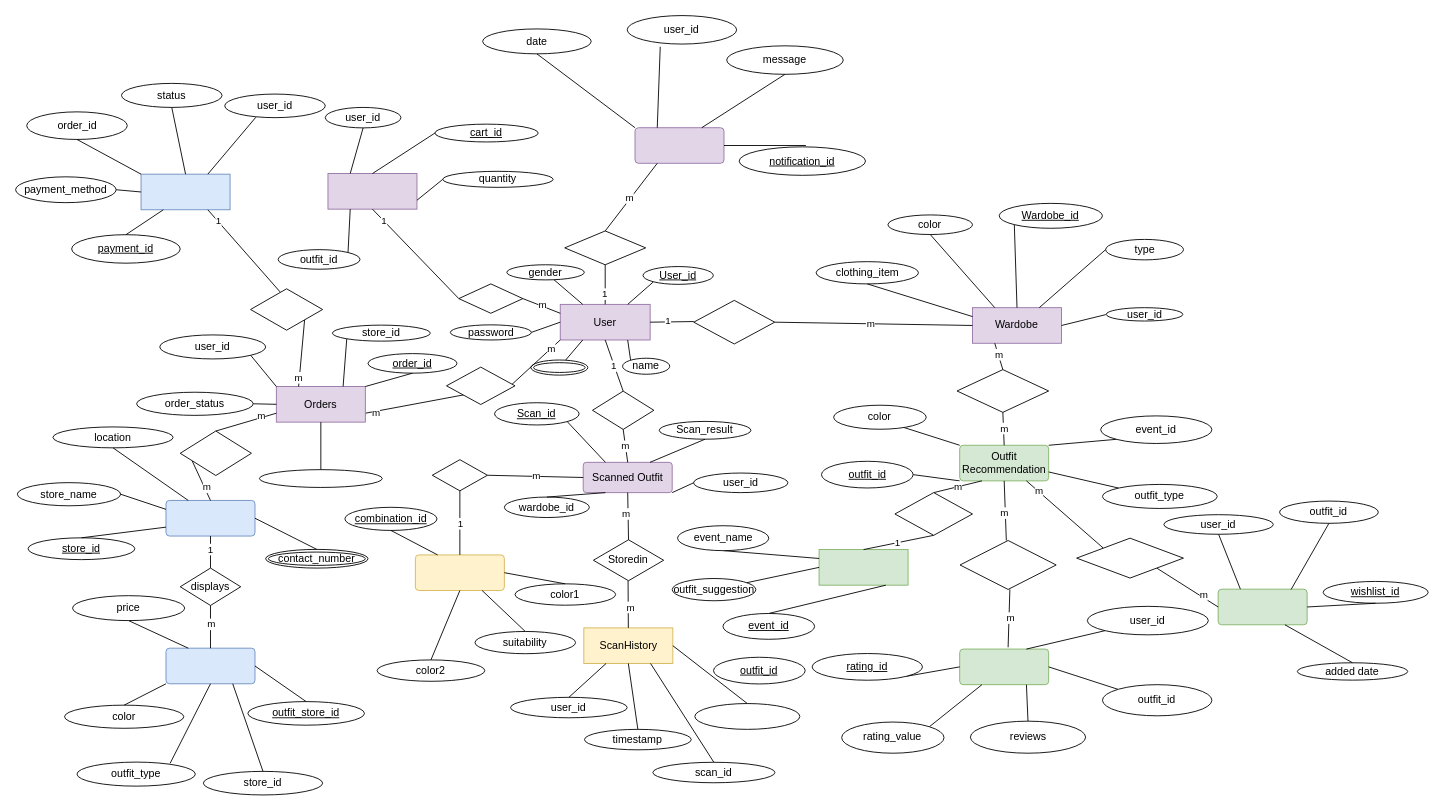
Image size: 1444x811. Some labels were removed from this diagram. The shapes that lost their labels are listed below. From the top down, each one's box as (x1, y1, x2, y2) in pixels, then its label:
(634, 127, 724, 163): Notifications
(140, 173, 230, 210): Payment
(327, 173, 417, 209): Cart
(564, 230, 646, 265): recieves
(250, 288, 323, 330): gets paid
(458, 283, 523, 313): stores in
(693, 299, 775, 344): owns
(446, 366, 515, 405): places
(530, 359, 588, 375): phone_number
(592, 390, 654, 429): scans
(956, 369, 1049, 412): recommends
(179, 430, 251, 476): collects
(259, 469, 382, 487): totoal_price
(431, 459, 487, 491): gives
(165, 500, 255, 536): Stores
(894, 492, 973, 535): selects
(414, 554, 504, 591): ColorCombination
(818, 549, 908, 585): Events
(959, 540, 1056, 589): liked
(1076, 537, 1183, 578): regular
(1217, 588, 1307, 625): wishlist
(165, 647, 255, 684): outfitsinStore
(959, 648, 1049, 685): Ratings
(694, 703, 800, 729): history_id
